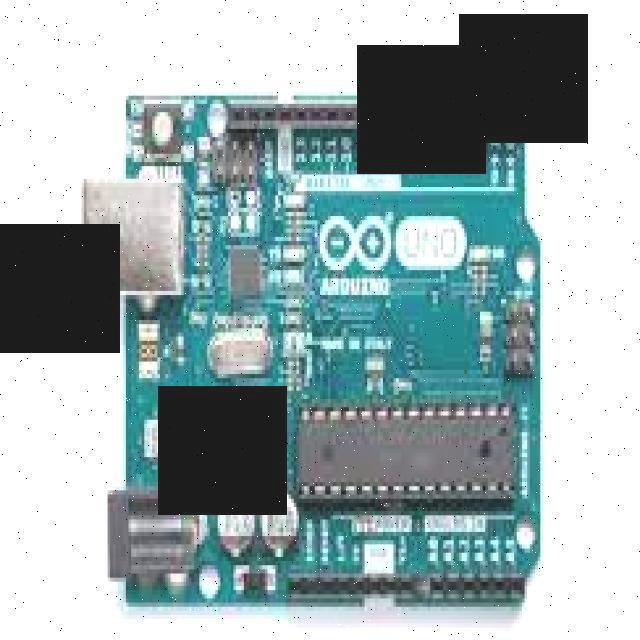arduino: (89, 92, 543, 610)
